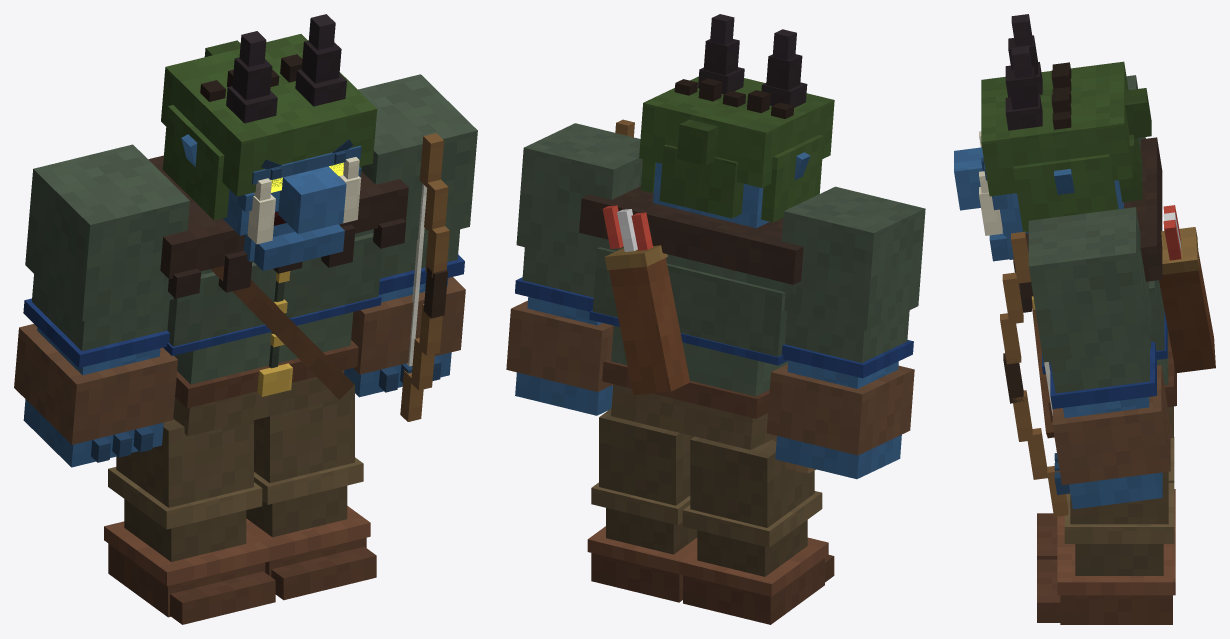
File: ogre_chasseur_v3.glb
3 renders of one model, left to right at view 1: azimuth 30°, elevation 25°; view 2: azimuth 150°, elevation 25°; view 3: azimuth 270°, elevation 25°, orthographic. The views are drawn at different scales.
Parts seen in each view (by area): view 1: ArmR, Head, Torso, LegR, ArmL, LegL, HandL; view 2: Torso, ArmR, Head, ArmL, LegR, LegL; view 3: ArmL, Head, LegL, Torso, HandL, LegR.
Boxes of the visible parts, x1,y1,x2,y2 form: ArmR: (14,144,189,467); Head: (161,14,377,270); Torso: (148,155,408,436); LegR: (104,419,275,624); ArmL: (344,74,477,397); LegL: (246,385,376,600); HandL: (400,133,449,421); Torso: (579,186,816,473); ArmR: (766,186,925,479); Head: (639,14,834,228); ArmL: (506,123,642,415); LegR: (679,436,834,624); LegL: (587,408,697,602); ArmL: (1028,207,1170,509); Head: (954,14,1151,261); LegL: (1037,471,1175,624); Torso: (1013,137,1215,438); HandL: (1000,231,1068,516); LegR: (1037,437,1175,559).
Size of the model in its own units: 1.46 by 2.09 by 0.9068.
44 materials, 44 textured.
